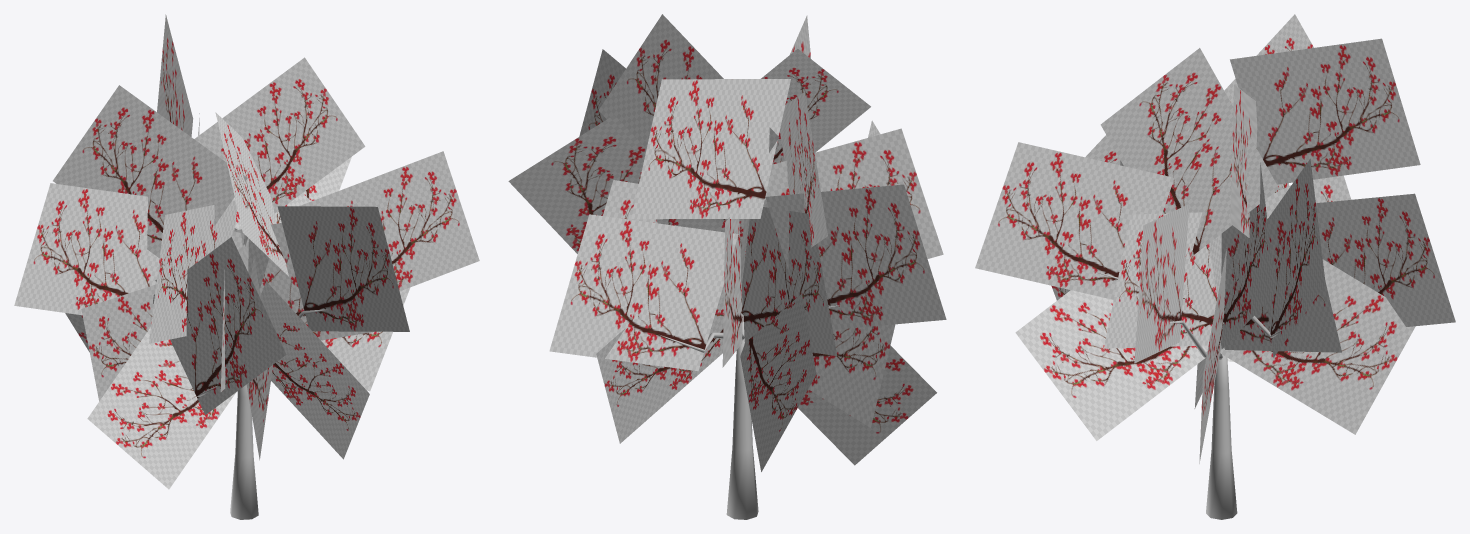
Rendered from Arbol.obj.
The picture shows the model from 3 angles, left to right: view 1: azimuth 30°, elevation 25°; view 2: azimuth 150°, elevation 25°; view 3: azimuth 270°, elevation 25°; orthographic projection. The views are drawn at different scales.
Parts seen in each view (by area): view 1: Plane001, Plane022, Plane002, Plane023, Plane003, Plane012, Plane006, Plane017, Plane018, Plane020, Plane021, tronco (+6 smaller); view 2: Plane004, Plane024, Plane001, Plane005, Plane011, Plane013, Plane018, Plane023, Plane012, Plane020, Plane008, Plane021 (+5 smaller); view 3: Plane024, Plane002, Plane021, Plane017, Plane008, Plane004, Plane009, Plane005, Plane006, Plane014, Plane007, tronco (+6 smaller).
Boxes of the visible parts, box(x1,y1,x2,y2) form: Plane001: box(14, 183, 159, 315); Plane022: box(53, 85, 247, 257); Plane002: box(277, 206, 409, 331); Plane023: box(194, 57, 365, 213); Plane003: box(153, 237, 286, 414); Plane012: box(87, 327, 236, 489); Plane006: box(299, 151, 479, 291); Plane017: box(260, 281, 369, 459); Plane018: box(149, 200, 237, 343); Plane020: box(81, 284, 156, 401); Plane021: box(215, 112, 288, 276); tronco: box(197, 309, 326, 519); Plane004: box(549, 214, 738, 371); Plane024: box(631, 79, 790, 219); Plane001: box(765, 184, 946, 329); Plane005: box(508, 115, 724, 253); Plane011: box(742, 207, 837, 356); Plane013: box(740, 293, 816, 471); Plane018: box(765, 128, 943, 258); Plane023: box(598, 14, 779, 226); Plane012: box(798, 345, 936, 465); Plane020: box(808, 324, 895, 427); Plane008: box(596, 285, 723, 443); Plane021: box(761, 48, 870, 164); Plane024: box(1230, 38, 1420, 184); Plane002: box(975, 142, 1174, 299); Plane021: box(1100, 48, 1279, 256); Plane017: box(1015, 290, 1208, 440); Plane008: box(1220, 259, 1415, 434); Plane004: box(1316, 193, 1455, 326); Plane009: box(1104, 212, 1217, 348); Plane005: box(1266, 158, 1325, 357); Plane006: box(1134, 204, 1189, 363); Plane014: box(1221, 218, 1341, 352); Plane007: box(1221, 162, 1275, 349); tronco: box(1093, 271, 1283, 519).
Bounding box in the file's own units: 468 × 497 × 458.
